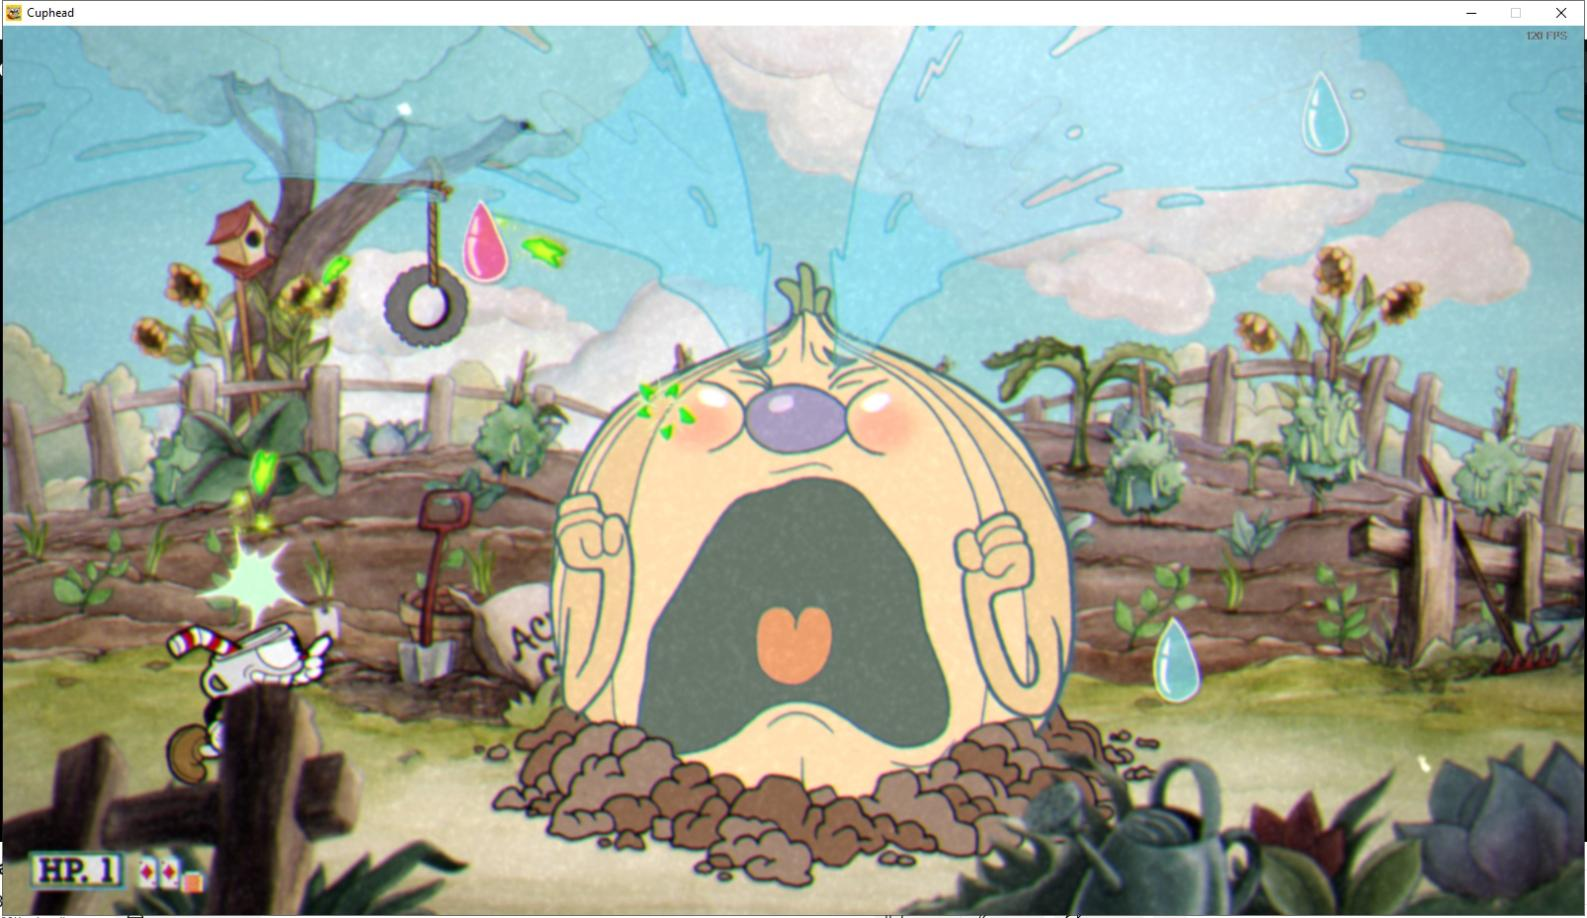hp1: (93, 853, 122, 889)
onion_boss: (538, 254, 1090, 819)
pink_rain: (458, 192, 520, 288)
player: (151, 607, 339, 799)
rain: (1143, 610, 1208, 707), (1293, 63, 1357, 160)
